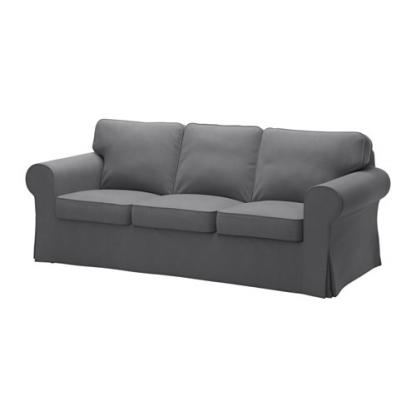Sofa: (21, 114, 393, 302)
